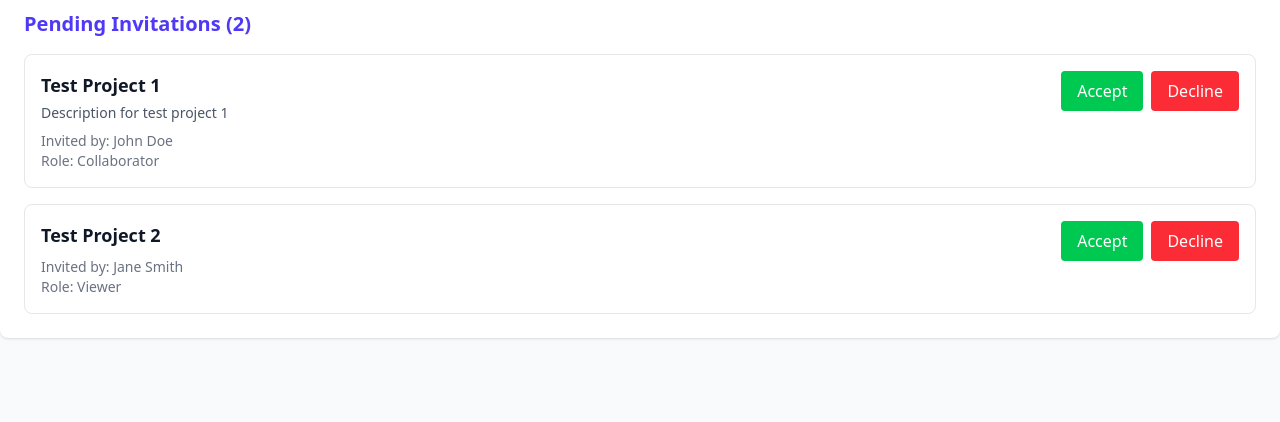
PendingInvitations › Error Handling › displays generic error message when API error has no message
Check: the heading "Test Project 1" is shown, box left=41, top=73, right=161, bottom=97
Click the button "Decline" in the row of "Description for test project 1" at (1195, 91), box left=1151, top=71, right=1239, bottom=111
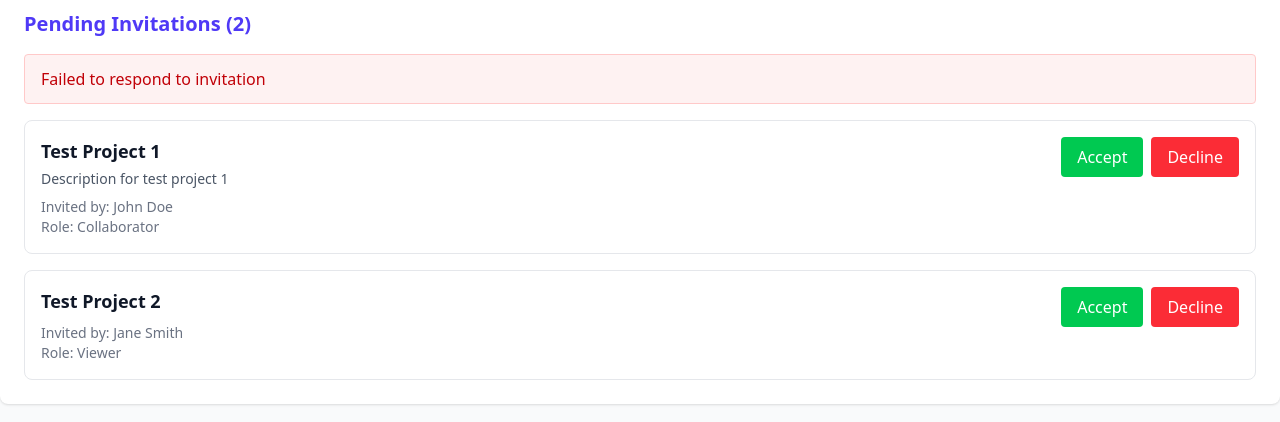
Check: the text "Failed to respond to invitation" is shown, box left=24, top=54, right=1256, bottom=104
